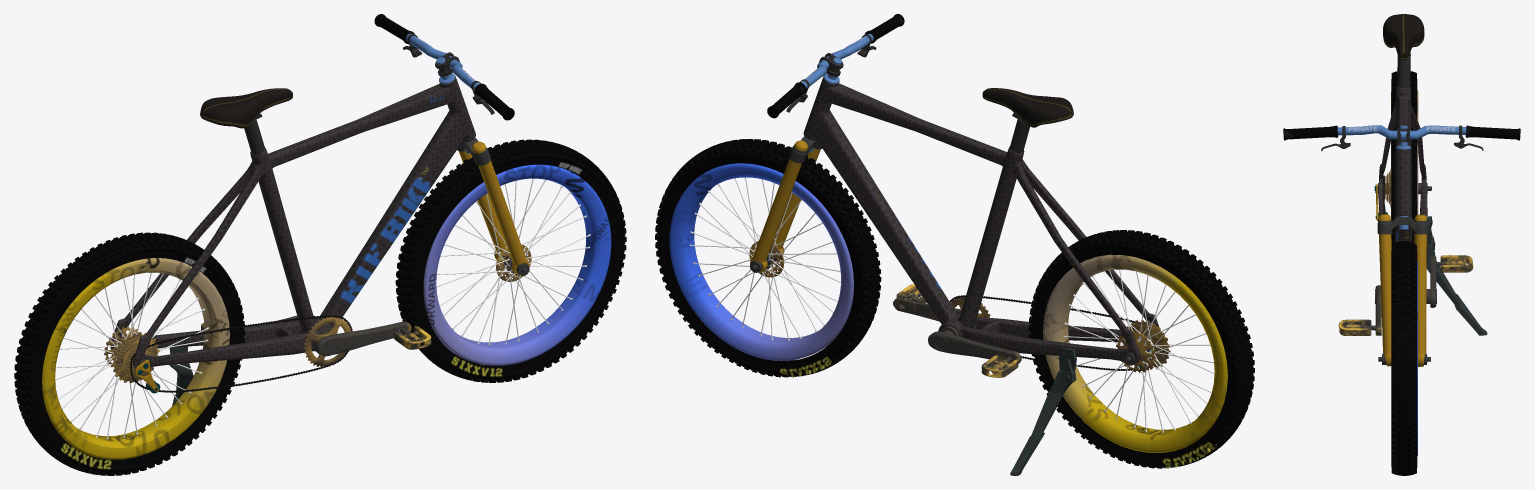
File: city-bicycle.glb
The picture shows the model from 3 angles, left to right: view 1: azimuth 30°, elevation 25°; view 2: azimuth 150°, elevation 25°; view 3: azimuth 270°, elevation 25°; orthographic projection. The views are drawn at different scales.
Parts seen in each view (by area): view 1: finbike1:pCylinder58, finbike1:tire3, finbike1:pCube6, finbike1:polySurface48, finbike1:polySurface1, finbike1:mirrored_z_7, finbike1:group19_mirrored_z_3, finbike1:duplicated_02group13, finbike1:group8TIREtire1polySurface24_finbike1:initialShadin, finbike1:group8TIREtire1polySurface23_finbike1:initialShadin, finbike1:MASH2_ReproMesh, finbike1:pCylinder54 (+1 smaller); view 2: finbike1:pCylinder58, finbike1:pCube6, finbike1:tire3, finbike1:polySurface48, finbike1:group19_mirrored_z_3, finbike1:mirrored_z_7, finbike1:polySurface1, finbike1:duplicated_02group13, finbike1:_pCube18group20, finbike1:group8TIREtire1polySurface23_finbike1:initialShadin, finbike1:group8TIREtire1polySurface24_finbike1:initialShadin, finbike1:pCylinder54 (+2 smaller); view 3: finbike1:pCylinder58, finbike1:pCube6, finbike1:mirrored_z_7, finbike1:group19_mirrored_z_3, finbike1:duplicated_02group13, finbike1:pCylinder54, finbike1:_pCube18group20, finbike1:pCylinder101, finbike1:_pSphere4, finbike1:tire3, finbike1:group25_duplicated_01.
Part boxes in pixels (bbox=[...]): finbike1:pCylinder58: bbox=[14, 14, 626, 475]; finbike1:tire3: bbox=[35, 164, 611, 459]; finbike1:pCube6: bbox=[110, 76, 475, 371]; finbike1:polySurface48: bbox=[436, 178, 590, 345]; finbike1:polySurface1: bbox=[104, 244, 531, 382]; finbike1:mirrored_z_7: bbox=[459, 141, 528, 274]; finbike1:group19_mirrored_z_3: bbox=[201, 315, 431, 356]; finbike1:duplicated_02group13: bbox=[200, 88, 292, 128]; finbike1:group8TIREtire1polySurface24_finbike1:initialShadin: bbox=[58, 272, 204, 439]; finbike1:group8TIREtire1polySurface23_finbike1:initialShadin: bbox=[55, 274, 208, 437]; finbike1:MASH2_ReproMesh: bbox=[130, 315, 352, 392]; finbike1:pCylinder54: bbox=[383, 17, 479, 153]; finbike1:pCylinder58: bbox=[655, 14, 1254, 468]; finbike1:pCube6: bbox=[803, 76, 1160, 365]; finbike1:tire3: bbox=[669, 163, 1227, 452]; finbike1:polySurface48: bbox=[689, 177, 840, 340]; finbike1:group19_mirrored_z_3: bbox=[893, 284, 1021, 377]; finbike1:mirrored_z_7: bbox=[750, 140, 820, 272]; finbike1:polySurface1: bbox=[749, 241, 1170, 372]; finbike1:duplicated_02group13: bbox=[982, 88, 1073, 127]; finbike1:_pCube18group20: bbox=[1010, 348, 1076, 475]; finbike1:group8TIREtire1polySurface23_finbike1:initialShadin: bbox=[1063, 271, 1214, 431]; finbike1:group8TIREtire1polySurface24_finbike1:initialShadin: bbox=[1068, 269, 1211, 432]; finbike1:pCylinder54: bbox=[776, 33, 873, 152]; finbike1:pCylinder58: bbox=[1283, 71, 1520, 475]; finbike1:pCube6: bbox=[1378, 87, 1427, 262]; finbike1:mirrored_z_7: bbox=[1378, 214, 1426, 366]; finbike1:group19_mirrored_z_3: bbox=[1338, 255, 1473, 335]; finbike1:duplicated_02group13: bbox=[1383, 14, 1424, 60]; finbike1:pCylinder54: bbox=[1337, 125, 1512, 229]; finbike1:_pCube18group20: bbox=[1426, 216, 1487, 335]; finbike1:pCylinder101: bbox=[1377, 183, 1431, 364]; finbike1:_pSphere4: bbox=[1321, 125, 1483, 246]; finbike1:tire3: bbox=[1391, 90, 1418, 455]; finbike1:group25_duplicated_01: bbox=[1397, 53, 1410, 87].
Bounding box in the file's own units: 13.9 × 7.66 × 5.16.
19 materials, 7 textured.
